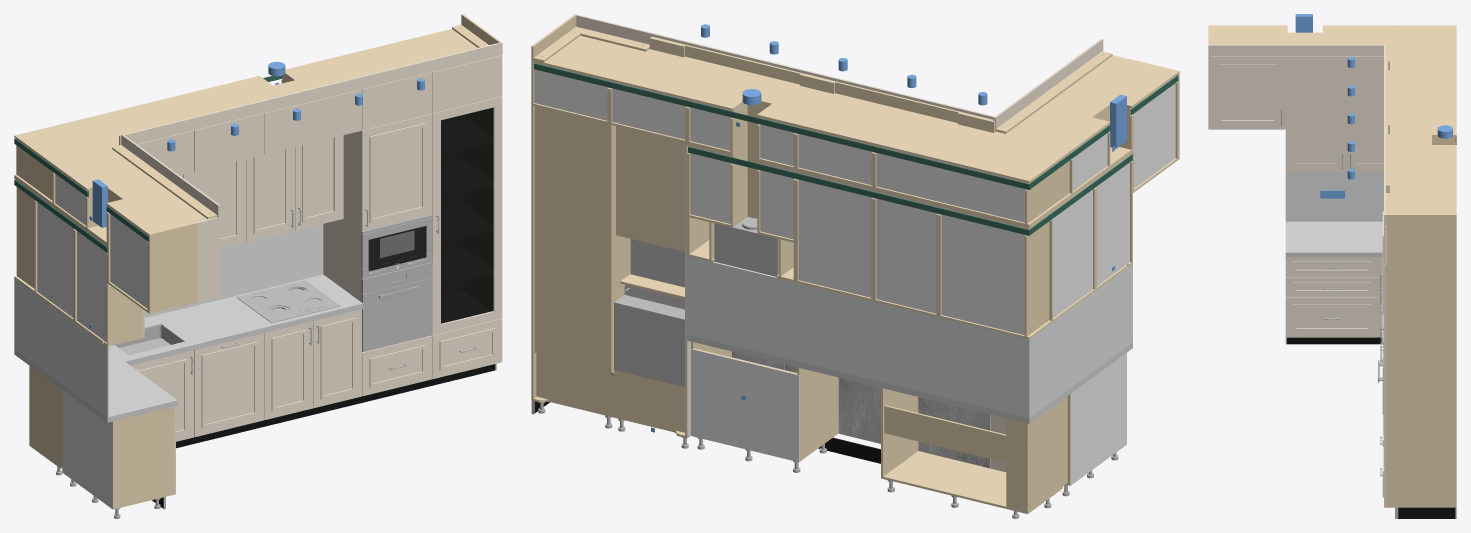
3 views of the same model, side by side, from view 1: azimuth 30°, elevation 25°; view 2: azimuth 150°, elevation 25°; view 3: azimuth 270°, elevation 25° (orthographic). The views are drawn at different scales.
Parts seen in each view (by area): view 1: node_0148, node_0026, node_0028, node_0126, node_0027, node_0287, node_0262, node_0648, node_0147, node_0073, node_0260, node_0111 (+41 smaller); view 2: node_0027, node_0145, node_0294, node_0169, node_0028, node_0196, node_0114, node_0073, node_0157, node_0648, node_0075, node_0260 (+50 smaller); view 3: node_0142, node_0047, node_0028, node_0185, node_0073, node_0026, node_0064, node_0271, node_0053, node_0236, node_0090, node_0319 (+19 smaller).
Boxes of the visible parts, box(x1,y1,x2,y2) form: node_0148: box(441, 107, 493, 323); node_0026: box(14, 274, 363, 422); node_0028: box(15, 279, 108, 417); node_0126: box(361, 113, 432, 231); node_0027: box(14, 224, 323, 349); node_0287: box(194, 333, 264, 437); node_0262: box(113, 406, 174, 507); node_0648: box(361, 262, 432, 351); node_0147: box(432, 96, 502, 335); node_0073: box(14, 102, 178, 165); node_0260: box(62, 390, 113, 509); node_0111: box(323, 131, 362, 351); node_0027: box(687, 256, 1030, 417); node_0145: box(534, 106, 607, 367); node_0294: box(691, 349, 799, 462); node_0169: box(940, 207, 1026, 335); node_0028: box(1030, 264, 1132, 416); node_0196: box(798, 173, 873, 297); node_0114: box(616, 126, 684, 251); node_0073: box(875, 113, 1071, 183); node_0157: box(875, 191, 938, 313); node_0648: box(614, 284, 684, 387); node_0075: box(875, 146, 1026, 222); node_0260: box(1070, 353, 1126, 485); node_0142: box(1386, 263, 1456, 505); node_0047: box(1210, 56, 1285, 129); node_0028: box(1285, 172, 1383, 221); node_0185: box(1285, 94, 1346, 172); node_0073: box(1386, 25, 1456, 87); node_0026: box(1285, 221, 1383, 362); node_0064: box(1285, 56, 1377, 94); node_0271: box(1285, 297, 1378, 337); node_0053: box(1386, 226, 1456, 263); node_0236: box(1346, 94, 1383, 172); node_0090: box(1388, 120, 1456, 162); node_0319: box(1208, 45, 1386, 56).
Bounding box in the file's own units: 3.84 × 2.71 × 2.
Materials: 29 (5 with a texture image).
